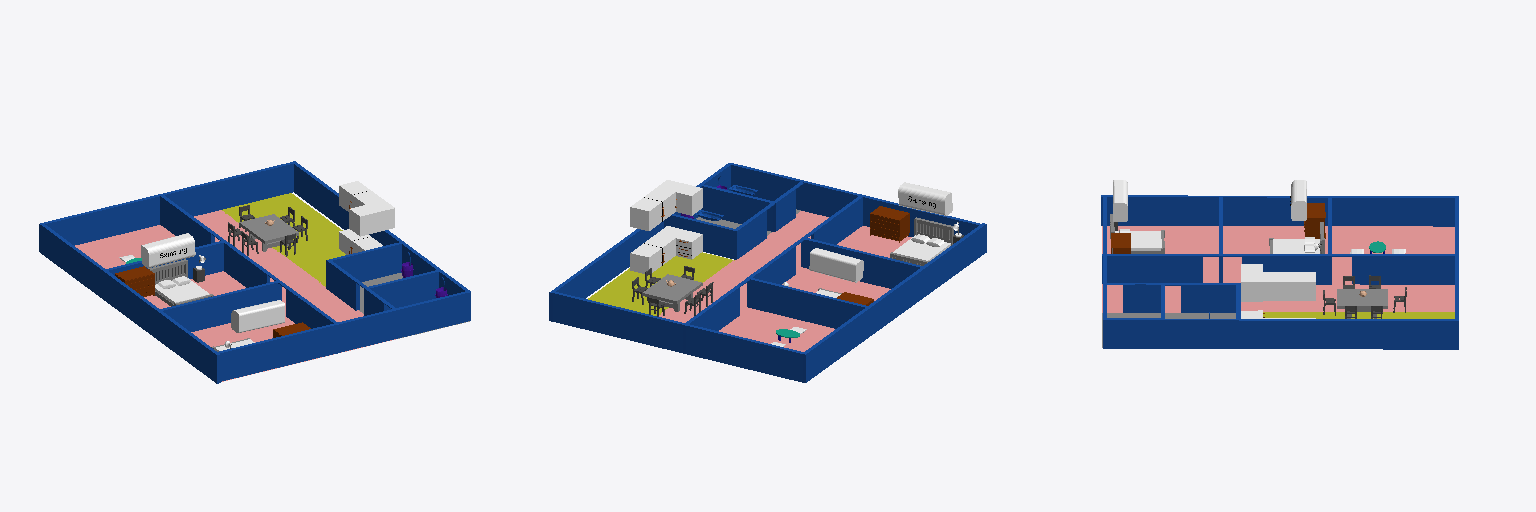
The model's file is tipeb3.obj.
The picture shows the model from 3 angles: view 1: azimuth 30°, elevation 25°; view 2: azimuth 150°, elevation 25°; view 3: azimuth 270°, elevation 25°; orthographic projection.
Parts seen in each view (by area): view 1: Box298, Plane001, Box295, Box299, Plane006, Box300, Box296, Box302, Box374, Box305, Box160, Rectangle002 (+7 smaller); view 2: Plane001, Box295, Box299, Box298, Box303, Box300, Plane006, Box296, Box374, Box302, Box297, Box305 (+11 smaller); view 3: Plane001, Box300, Box299, Box305, Box297, Box377, Box304, Plane006, Box301, Box024, Box160, Box158 (+7 smaller).
Part boxes in pixels (x1,y1,x2,y2): Box298: (215,291,470,381); Plane001: (75,210,395,381); Box295: (42,162,295,245); Box299: (39,223,220,383); Plane006: (222,193,345,286); Box300: (292,161,469,295); Box296: (159,280,281,331); Box302: (326,242,401,288); Box374: (366,270,439,309); Box305: (158,194,214,246); Box160: (349,200,394,236); Rectangle002: (231,300,284,332); Plane001: (659,211,911,351); Box295: (550,291,805,382); Box299: (802,223,986,382); Box298: (728,163,980,236); Box303: (747,277,868,328); Box300: (549,164,730,321); Plane006: (588,252,734,315); Box296: (801,237,922,288); Box374: (700,184,772,231); Box302: (664,214,737,259); Box297: (811,194,864,244); Box305: (683,286,739,353); Plane001: (1102,226,1454,312); Box300: (1105,318,1458,349); Box299: (1101,195,1458,226); Box305: (1352,254,1458,284); Box297: (1102,254,1202,283); Box377: (1181,283,1238,312); Box304: (1242,254,1331,284); Plane006: (1263,312,1454,318); Box301: (1123,283,1163,312); Box024: (1337,289,1387,308); Box160: (1241,264,1262,301); Box158: (1289,272,1315,300).
Bounding box in the file's own units: 875 × 215 × 1056.